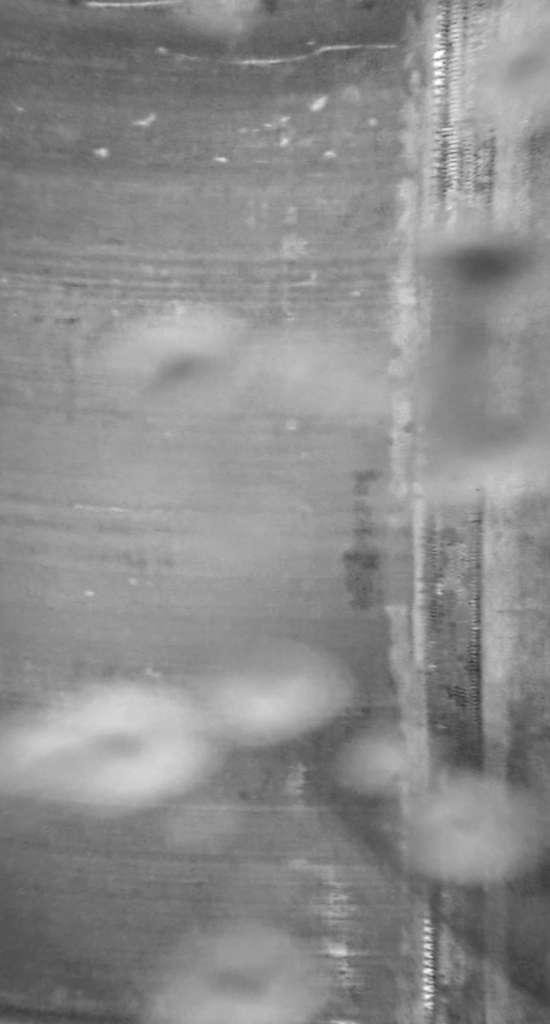splice: (414, 1, 502, 1024)
